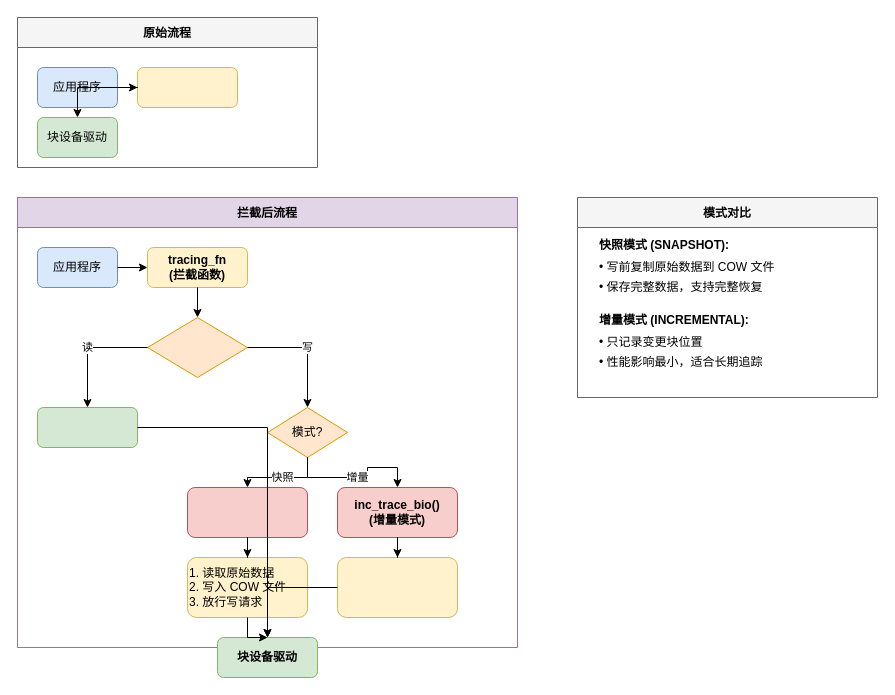
The diagram is 895 pixels wide and 695 high, and some of its shapes have lost their labels. The shapes that lost their labels are listed below. From the top down, each one's centre as x and y in pixels, then its label:
(x=187, y=87): 原始 submit_bio
(x=197, y=347): BIO 类型?
(x=87, y=427): 读请求 (直接放行)
(x=247, y=512): snap_trace_bio() (快照模式)
(x=397, y=587): 记录变更块位置 (不保存数据)
